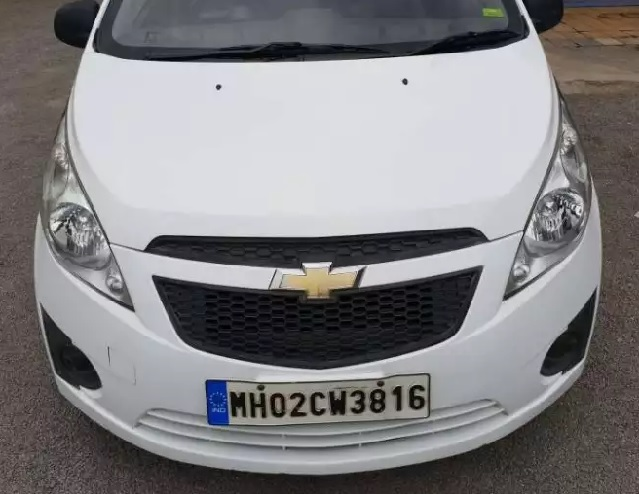licenseplate: (205, 375, 436, 423)
